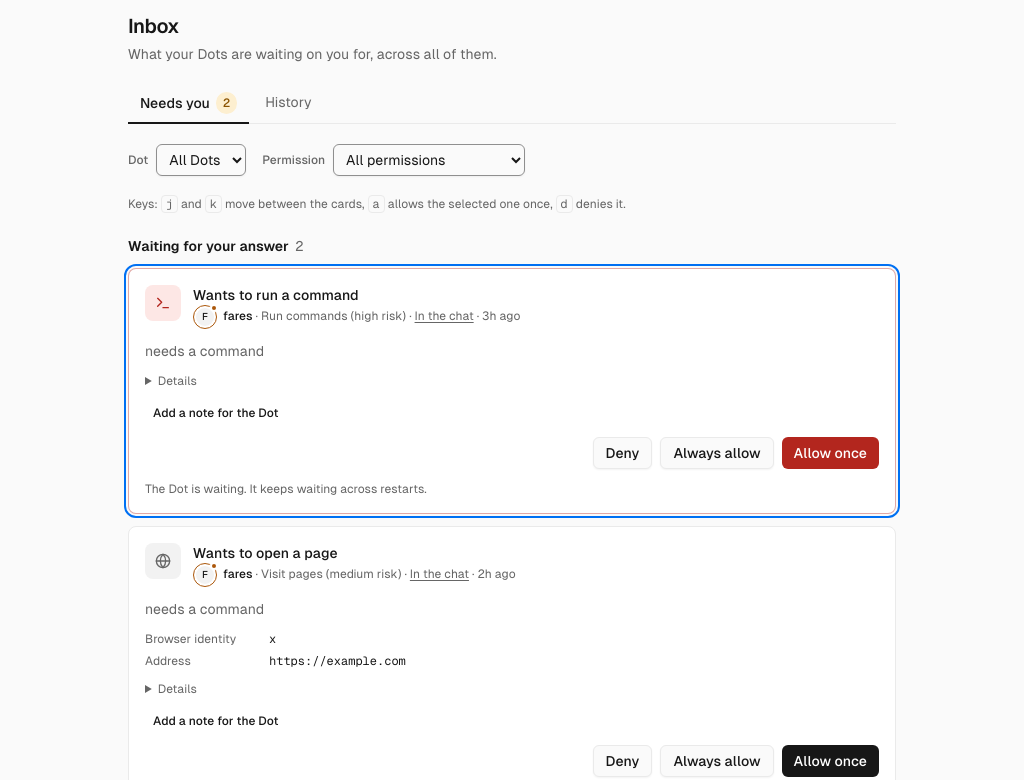
Test: Needs you › keeps an approval it answered in its place as a receipt, so that nothing moves under the pointer
Click the 1st button "Allow once".
click(830, 453)  # box [782, 437, 879, 469]
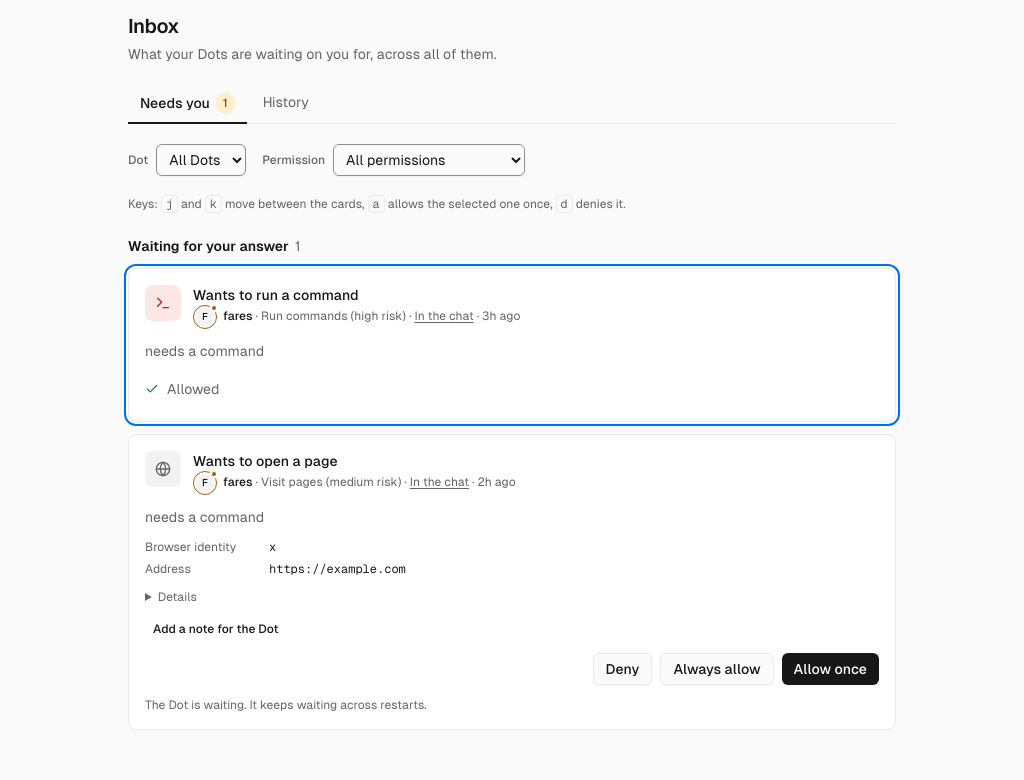
expect the message reads "Allowed": met, box [167, 381, 220, 397]
expect the heading "Waiting for your answer1" is shown: met, box [128, 238, 300, 254]
